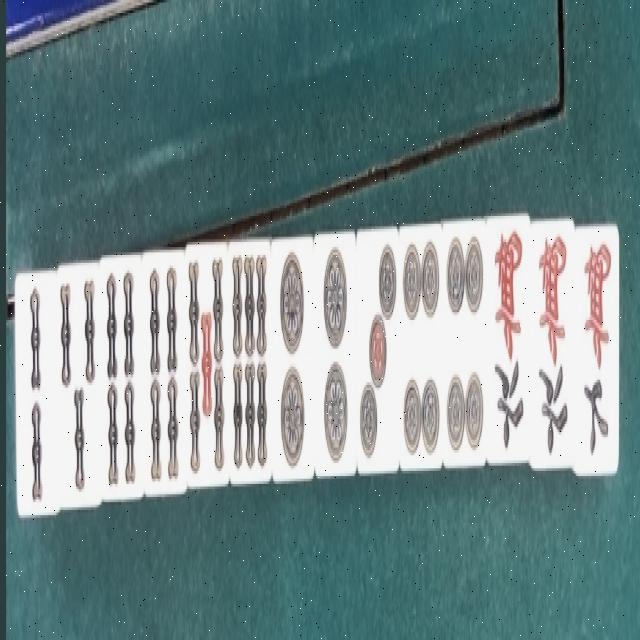bamboos_2: (14, 262, 58, 526)
bamboos_3: (57, 258, 102, 515)
bamboos_4: (100, 245, 144, 504), (143, 237, 185, 502)
bamboos_5: (186, 239, 228, 497)
bamboos_6: (229, 240, 273, 500)
characters_6: (529, 218, 573, 468), (485, 219, 529, 463)
characters_7: (574, 226, 618, 476)
circles_2: (311, 224, 356, 486), (272, 234, 314, 484)
circles_3: (355, 229, 399, 476)
circles_4: (398, 219, 442, 476), (442, 216, 486, 473)
